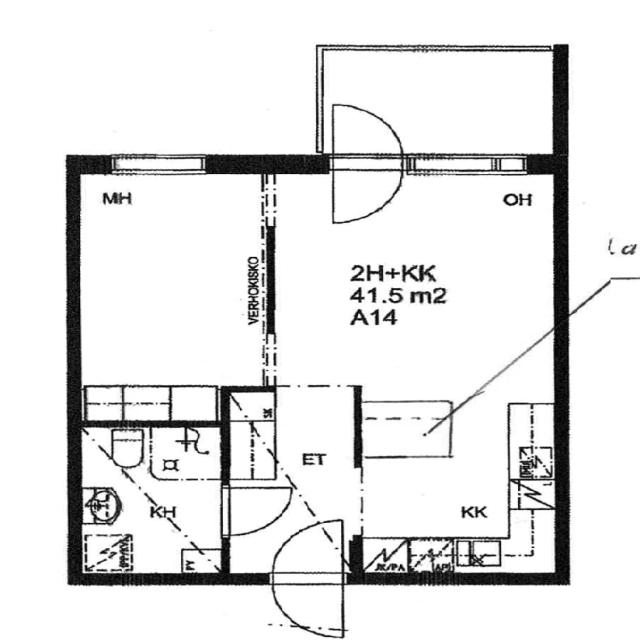door: (264, 519, 348, 638), (323, 160, 407, 227), (322, 101, 410, 164), (214, 483, 292, 542)
window: (407, 148, 542, 184), (107, 151, 214, 182), (256, 327, 284, 378)
zone: (266, 160, 565, 404), (76, 169, 270, 413), (352, 447, 560, 577), (74, 420, 230, 579), (266, 518, 348, 638), (360, 401, 457, 460)
